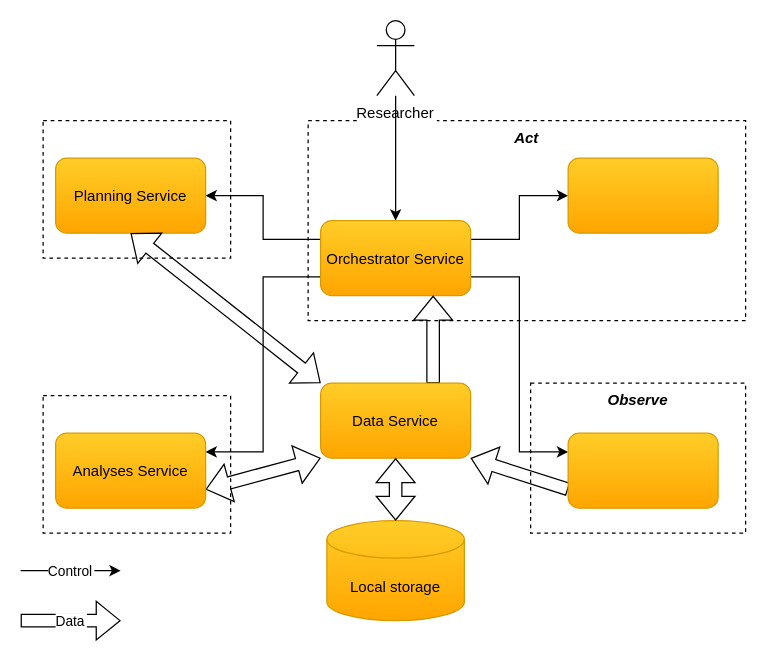
Image size: 766x660. Some labels were removed from this diagram. Each missing label, with the box of its shape:
Camera Adapter: (567, 432, 718, 508)
Decide: (42, 119, 231, 258)
Opentrons Adapter: (567, 157, 718, 233)
Orient: (42, 394, 231, 533)
